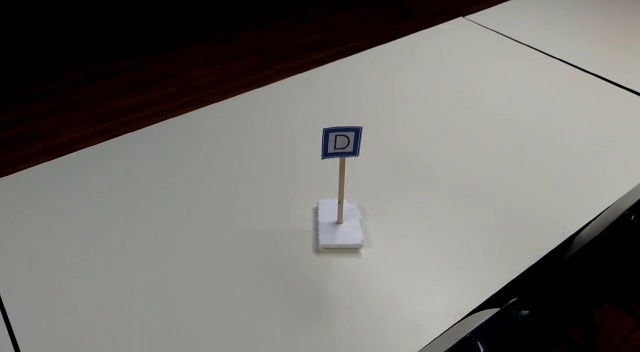durak: (321, 126, 362, 159)
